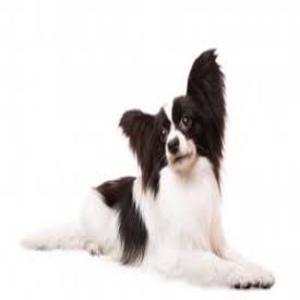yell: (19, 48, 275, 288)
